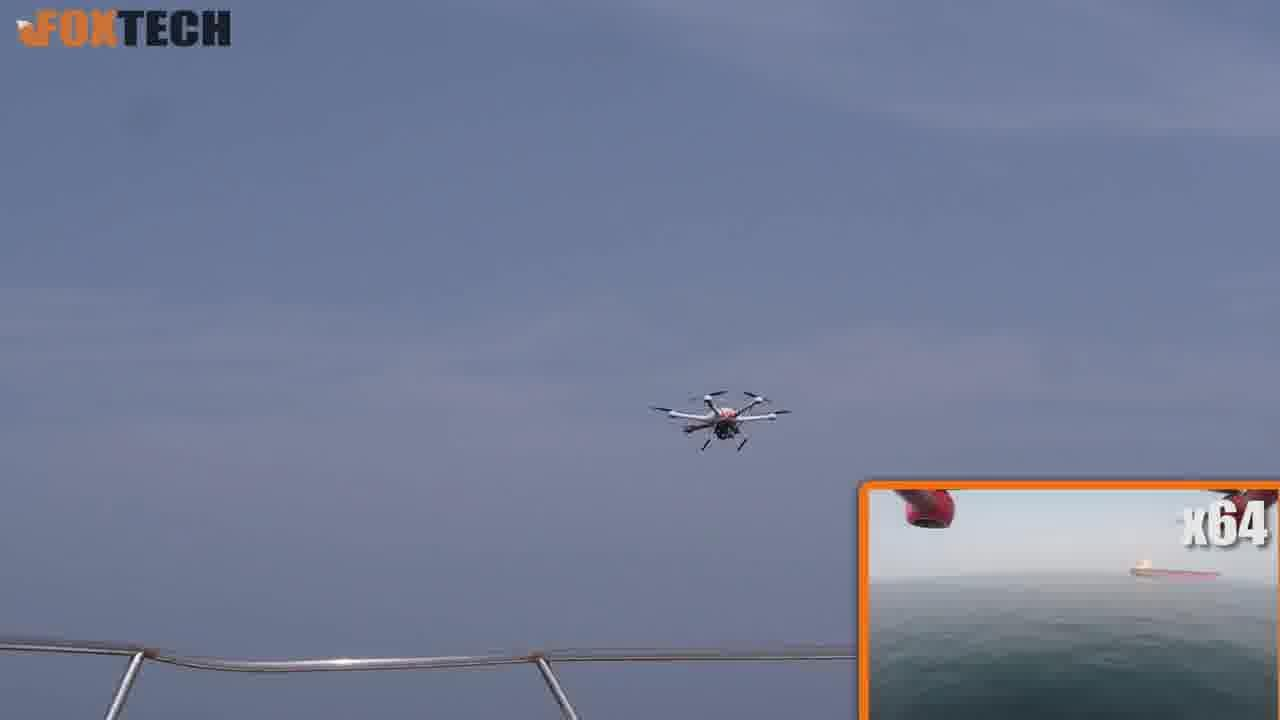drone: (639, 370, 798, 470)
